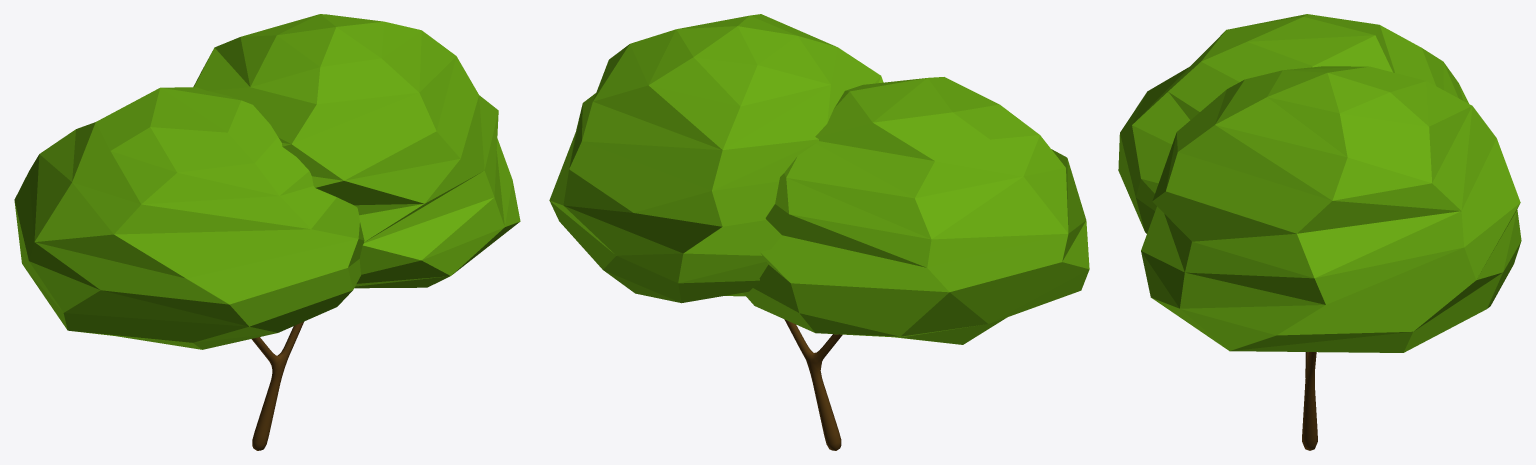
The model's file is RoundTreeMK4.fbx.
3 renders of one model, left to right at view 1: azimuth 30°, elevation 25°; view 2: azimuth 150°, elevation 25°; view 3: azimuth 270°, elevation 25°, orthographic. The views are drawn at different scales.
Visible parts, largest first — view 1: RoundTreeMk4, RoundTreeMk4.001; view 2: RoundTreeMk4, RoundTreeMk4.001; view 3: RoundTreeMk4, RoundTreeMk4.001.
Boxes of the visible parts, <box> form: RoundTreeMk4: <box>14,14,520,349</box>; RoundTreeMk4.001: <box>251,322,303,450</box>; RoundTreeMk4: <box>549,14,1089,344</box>; RoundTreeMk4.001: <box>784,319,842,450</box>; RoundTreeMk4: <box>1118,14,1521,352</box>; RoundTreeMk4.001: <box>1302,352,1317,450</box>.
Size of the model in its own units: 2579 by 2085 by 1806.
